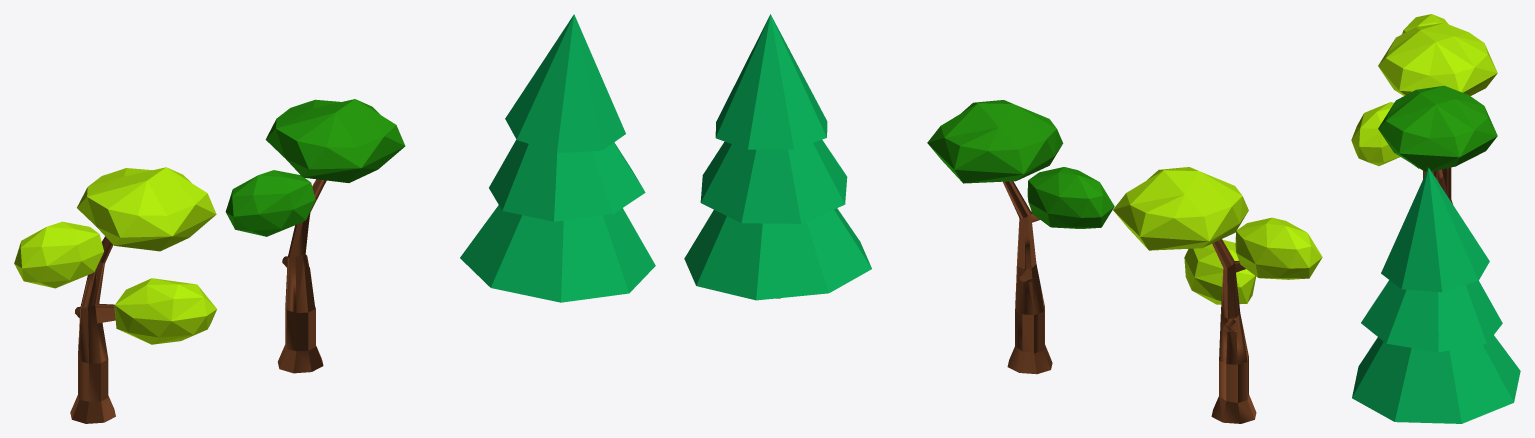
The model's file is drvece.fbx.
3 views of the same model, side by side, from view 1: azimuth 30°, elevation 25°; view 2: azimuth 150°, elevation 25°; view 3: azimuth 270°, elevation 25° (orthographic). The views are drawn at different scales.
Visible parts, largest first — view 1: jelka, Cone_2, Cone_1, Sphere_1, Sphere_1_4, Sphere_2, tree_1, Sphere_4, Sphere, tree; view 2: jelka, Cone_1, Cone_2, Sphere_1_4, Sphere_1, tree, tree_1, Sphere, Sphere_4, Sphere_2; view 3: jelka, Cone_2, Cone_1, Sphere_1_4, Sphere_1, Sphere_2, Sphere, tree_1.
Boxes of the visible parts, x1,y1,x2,y2 form: jelka: (460, 205, 655, 302); Cone_2: (505, 14, 625, 152); Cone_1: (489, 140, 645, 221); Sphere_1: (77, 167, 216, 251); Sphere_1_4: (265, 99, 405, 182); Sphere_2: (114, 278, 216, 344); tree_1: (70, 236, 115, 423); Sphere_4: (225, 170, 315, 236); Sphere: (14, 221, 103, 288); tree: (278, 179, 326, 373); jelka: (684, 208, 871, 300); Cone_1: (700, 140, 847, 223); Cone_2: (715, 14, 827, 149); Sphere_1_4: (927, 100, 1063, 183); Sphere_1: (1113, 167, 1248, 250); tree: (1003, 181, 1052, 374); tree_1: (1211, 239, 1256, 423); Sphere: (1235, 217, 1322, 279); Sphere_4: (1027, 167, 1114, 228); Sphere_2: (1184, 239, 1255, 304); jelka: (1352, 335, 1520, 423); Cone_2: (1381, 167, 1489, 292); Cone_1: (1361, 280, 1502, 352); Sphere_1_4: (1378, 85, 1497, 172); Sphere_1: (1378, 23, 1497, 95); Sphere_2: (1351, 102, 1400, 165); Sphere: (1402, 14, 1448, 33); tree_1: (1423, 167, 1452, 203).
Bounding box in the file's own units: 2292 × 1007 × 598.
